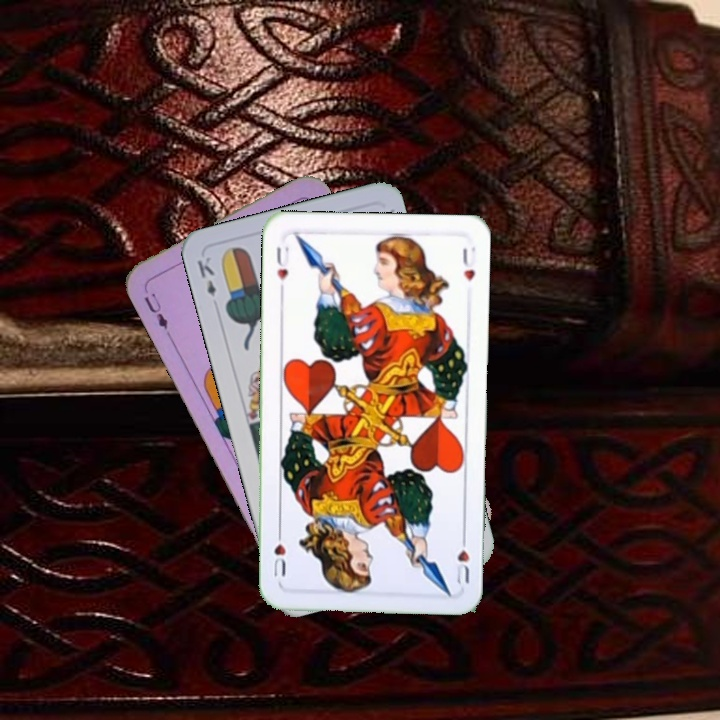EK: (193, 252, 219, 299)
EU: (140, 288, 174, 338)
HU: (452, 530, 472, 588), (272, 242, 292, 295)
